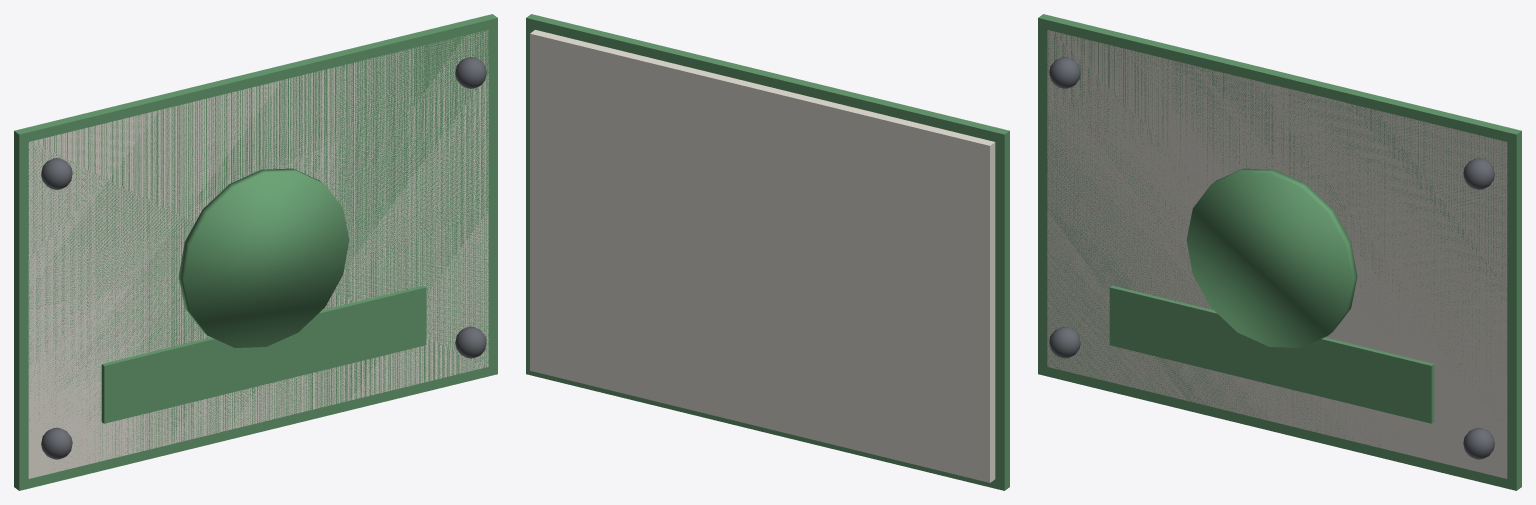
File: prop_kanban_horo_c.glb
3 renders of one model, left to right at view 1: azimuth 30°, elevation 25°; view 2: azimuth 150°, elevation 25°; view 3: azimuth 330°, elevation 25°, orthographic.
Visible parts, largest first — view 1: kanban_horo_c; view 2: kanban_horo_c; view 3: kanban_horo_c.
Part boxes in pixels (x1=…): kanban_horo_c: x1=14, y1=14, x2=497, y2=490; kanban_horo_c: x1=526, y1=14, x2=1009, y2=490; kanban_horo_c: x1=1038, y1=14, x2=1521, y2=490.
Size of the model in its own units: 1.04 by 0.74 by 0.09.
